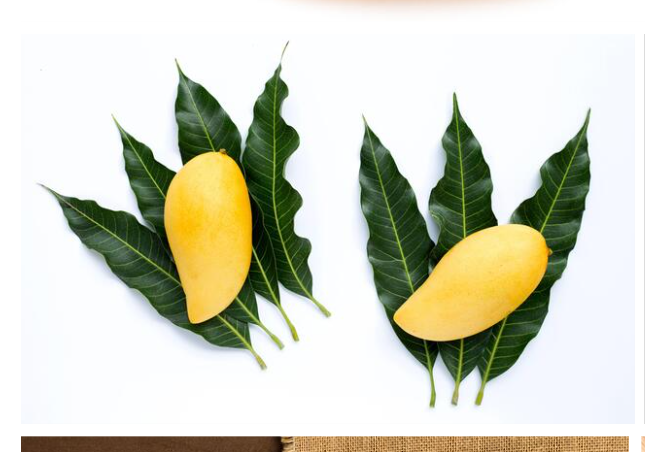mango: (385, 221, 549, 340), (164, 148, 254, 325)
